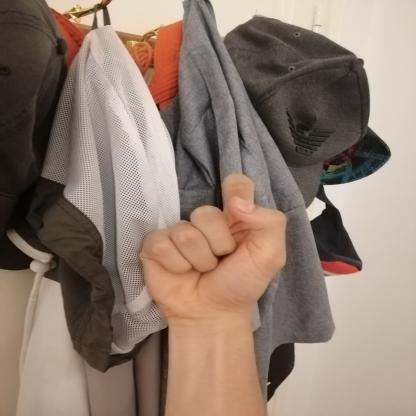FAA: (120, 163, 302, 330)
